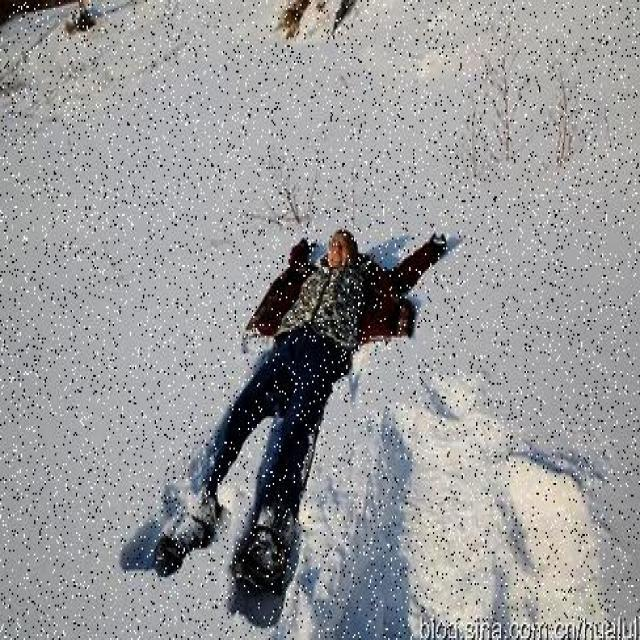fall: (151, 212, 454, 573)
